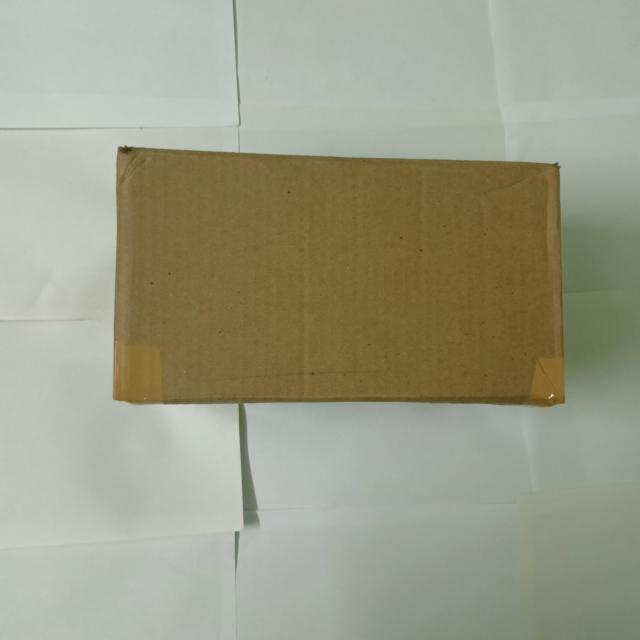box: (112, 149, 567, 410)
